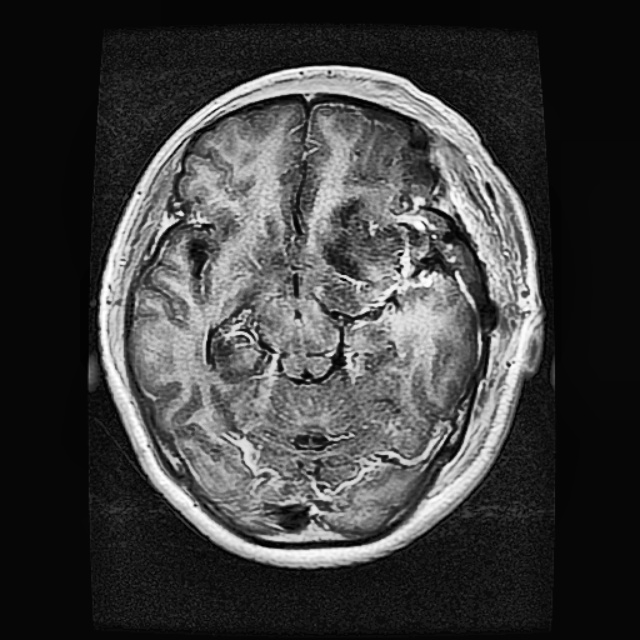Pituitary: (312, 193, 479, 318)
